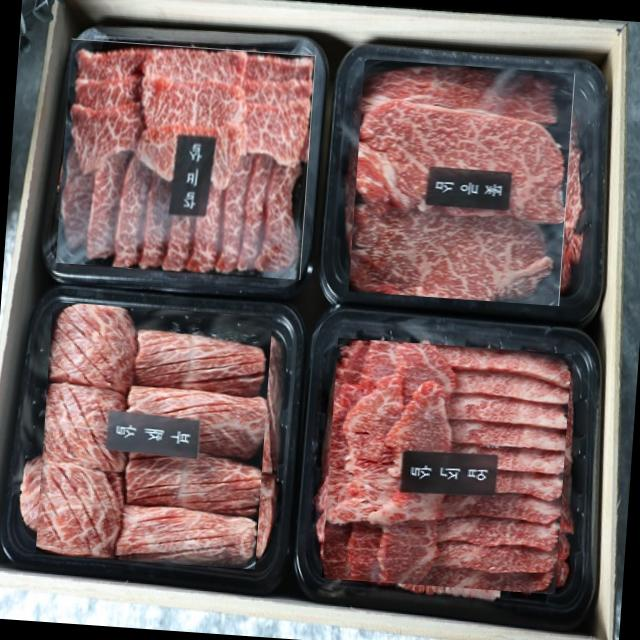beef: (319, 338, 573, 592), (27, 308, 280, 561), (56, 38, 316, 279), (342, 63, 580, 301)
